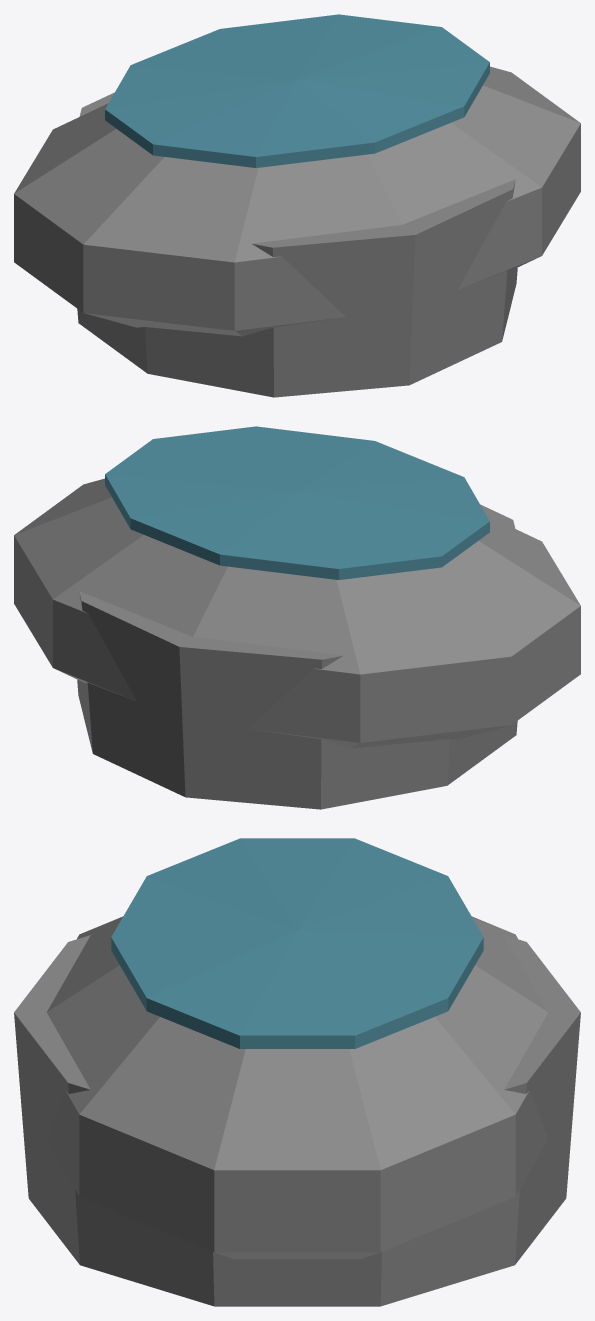
Rendered from basin.glb.
3 renders of one model, top to bottom at view 1: azimuth 30°, elevation 25°; view 2: azimuth 150°, elevation 25°; view 3: azimuth 270°, elevation 25°, orthographic. The views are drawn at different scales.
Parts seen in each view (by area): view 1: Basin, Water; view 2: Basin, Water; view 3: Basin, Water.
Boxes of the visible parts, x1=… form: Basin: x1=14, y1=66, x2=580, y2=397; Water: x1=105, y1=14, x2=489, y2=167; Basin: x1=14, y1=478, x2=580, y2=809; Water: x1=105, y1=426, x2=489, y2=579; Basin: x1=14, y1=916, x2=580, y2=1306; Water: x1=111, y1=838, x2=483, y2=1048.
Size of the model in its own units: 14.11 by 6.05 by 11.6.
